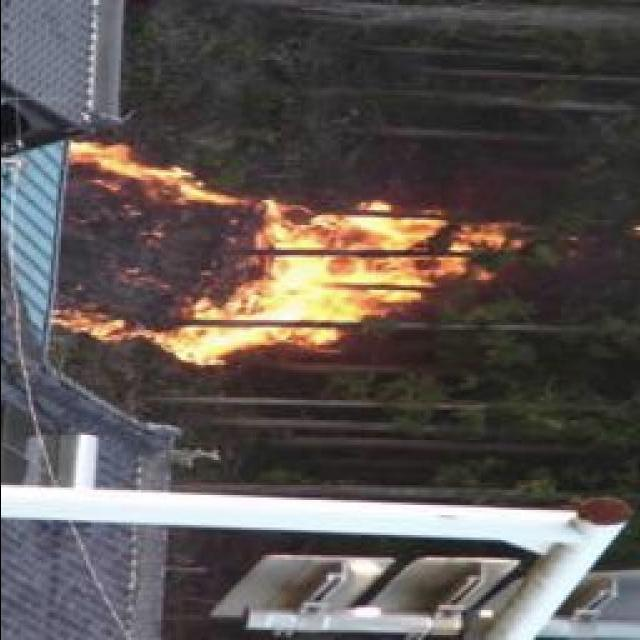Fire: (61, 143, 506, 363)
